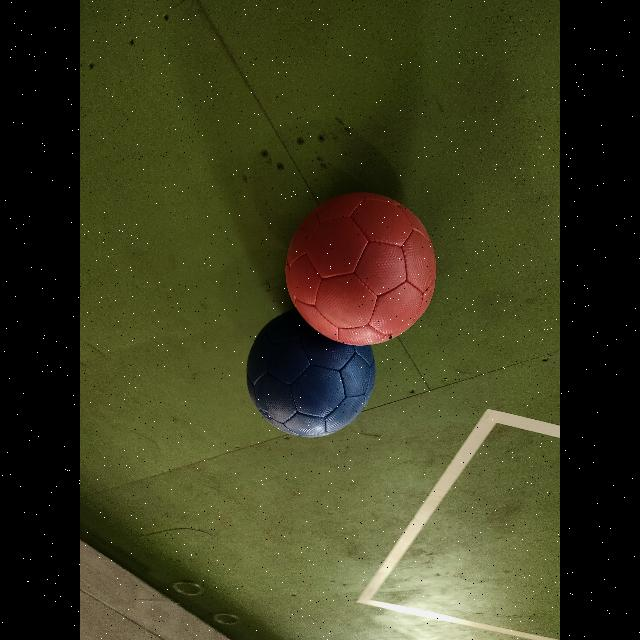B: (247, 310, 376, 437)
R: (286, 192, 437, 345)
